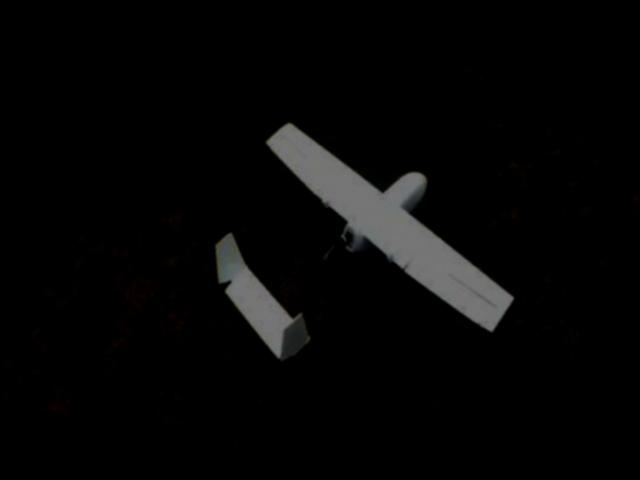uav: (169, 70, 563, 455)
